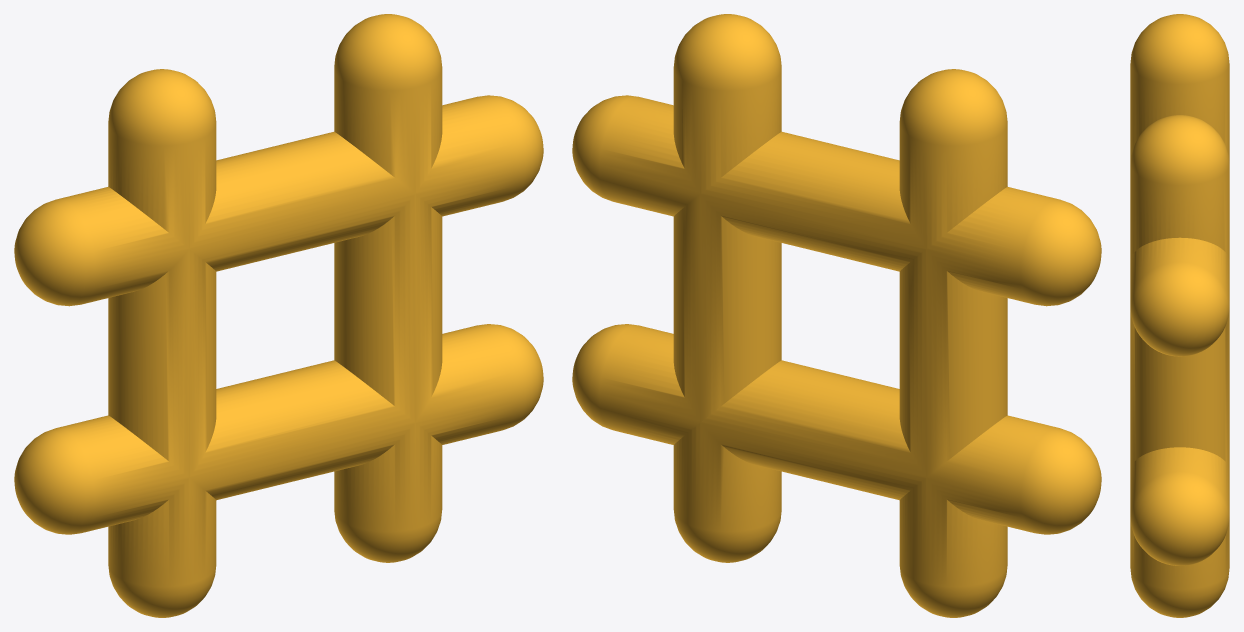
The model's file is waffle.gltf.
3 views of the same model, side by side, from view 1: azimuth 30°, elevation 25°; view 2: azimuth 150°, elevation 25°; view 3: azimuth 270°, elevation 25° (orthographic). The views are drawn at different scales.
Visible parts, largest first — view 1: waffle; view 2: waffle; view 3: waffle.
Boxes of the visible parts, x1,y1,x2,y2 form: waffle: [14, 14, 543, 617]; waffle: [572, 14, 1101, 617]; waffle: [1130, 14, 1229, 617].
Size of the model in its own units: 0.66 by 0.66 by 0.12.
